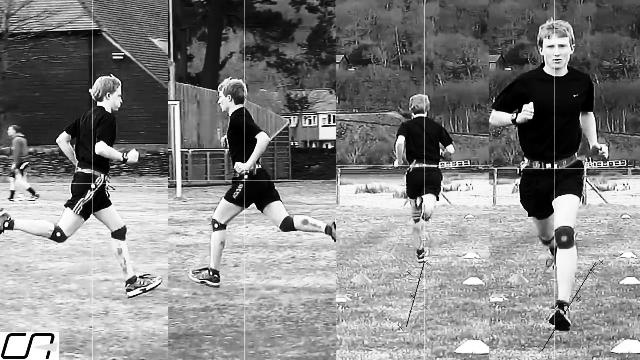berlari: (490, 15, 612, 347), (0, 72, 162, 306), (182, 71, 338, 295), (386, 88, 456, 280)
